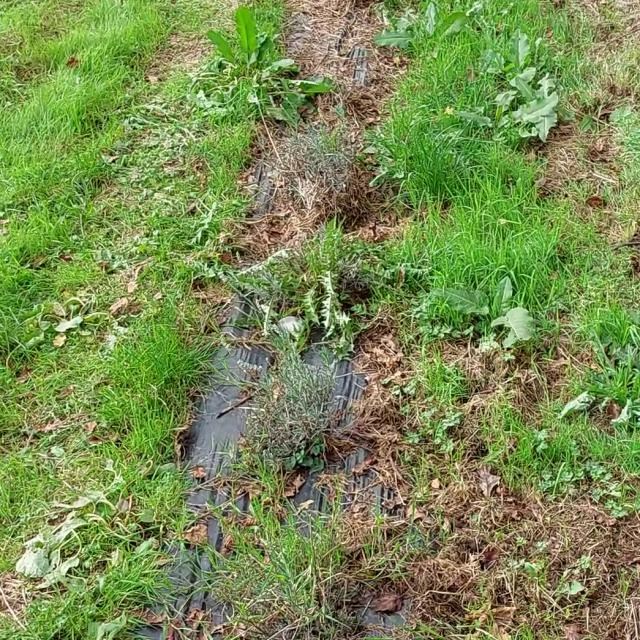organic waste: (9, 444, 157, 598), (198, 8, 302, 114), (33, 266, 142, 366), (443, 256, 549, 344), (394, 0, 492, 92), (489, 64, 588, 152), (475, 22, 560, 104)
